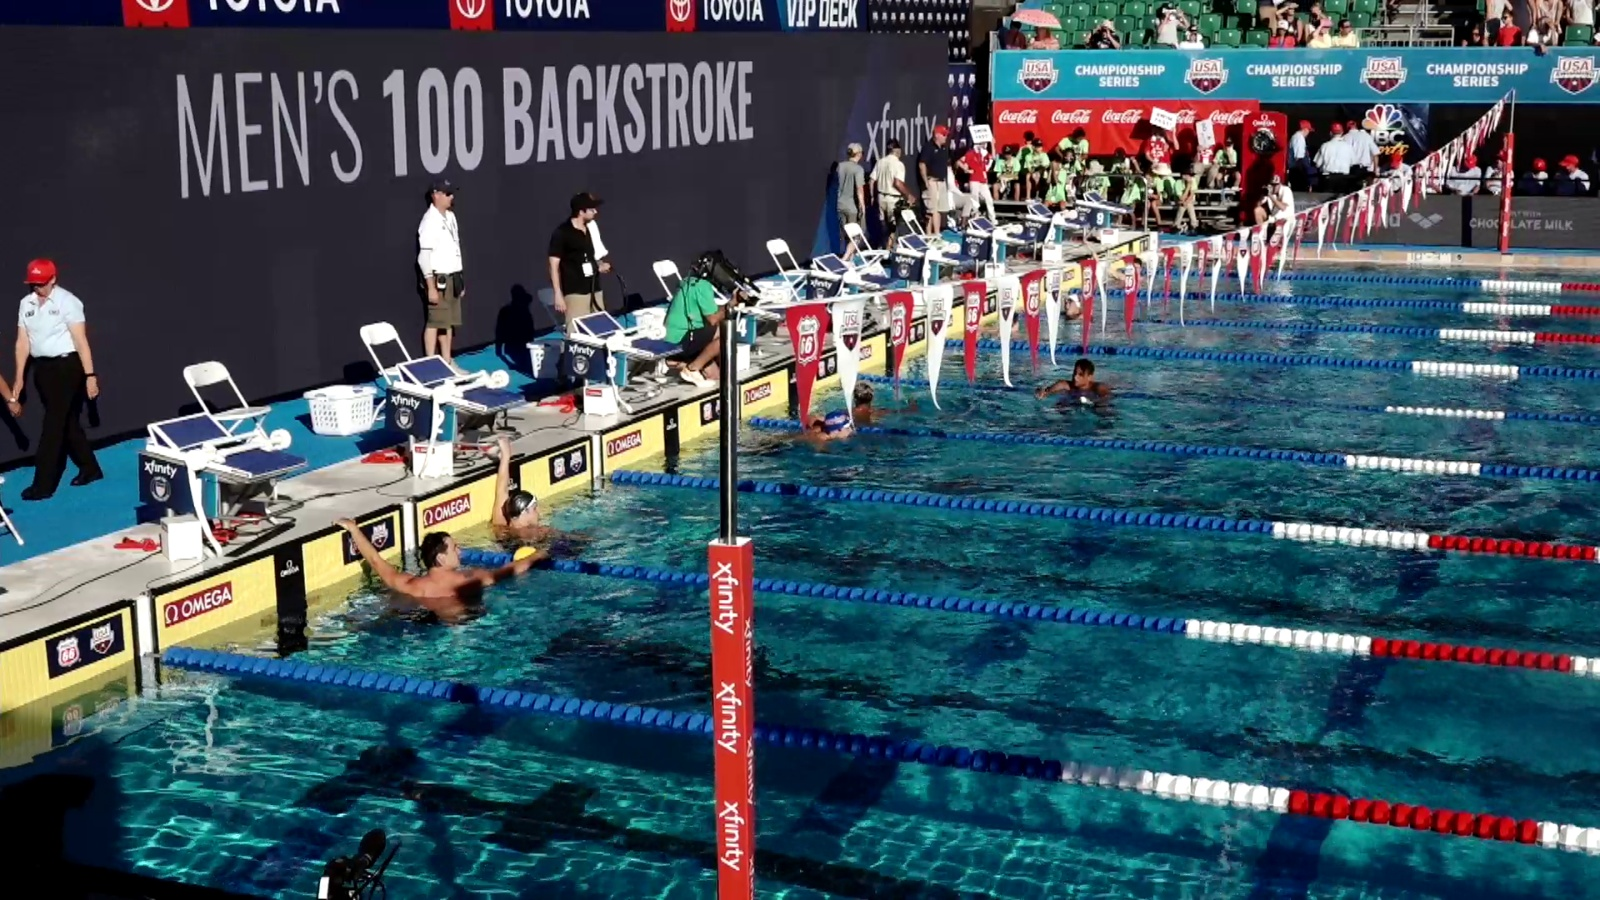swimmerw: (327, 523, 549, 644), (479, 443, 579, 544), (1049, 356, 1115, 425), (767, 411, 863, 456), (835, 375, 895, 421), (1102, 254, 1157, 291), (975, 307, 1023, 336), (1057, 291, 1089, 316)
